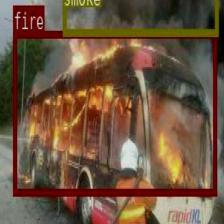fire: (13, 30, 216, 195)
smoke: (62, 0, 218, 35)
